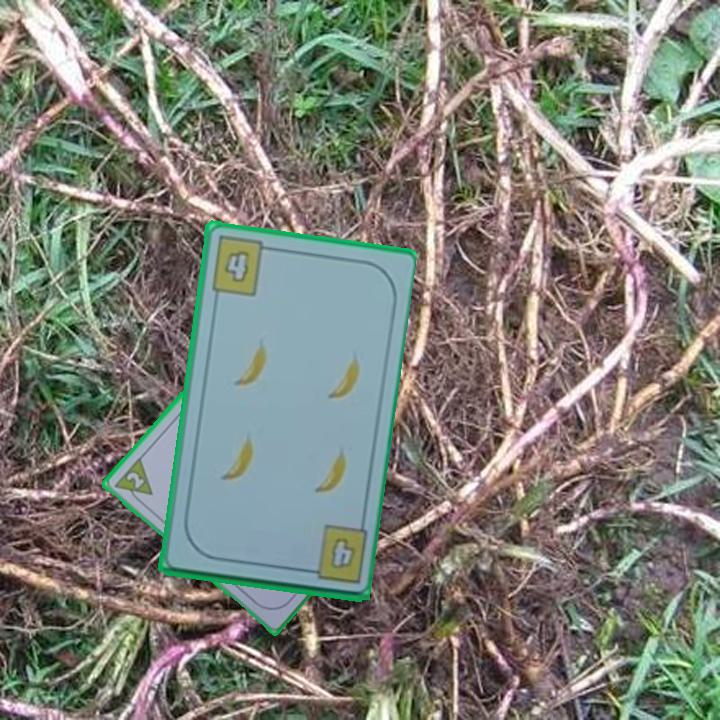2p: (110, 454, 156, 508)
4b: (207, 232, 276, 299), (299, 522, 370, 587)
